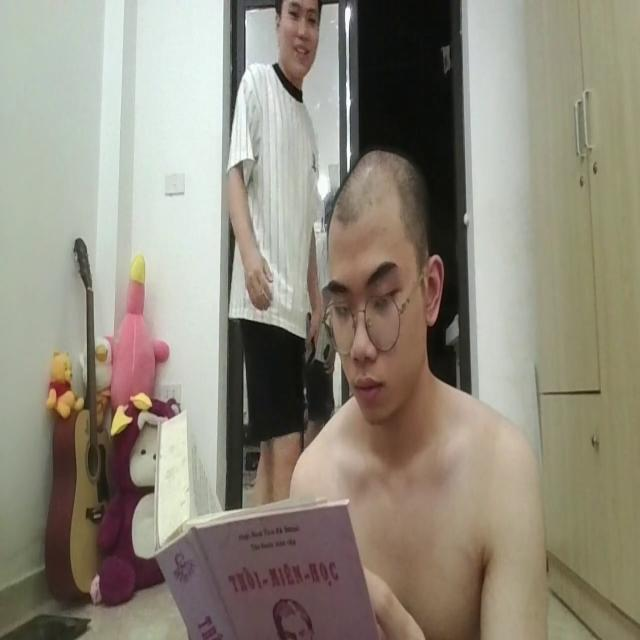book: (149, 400, 389, 640)
extra_person: (206, 0, 331, 514)
student: (286, 144, 548, 640)
